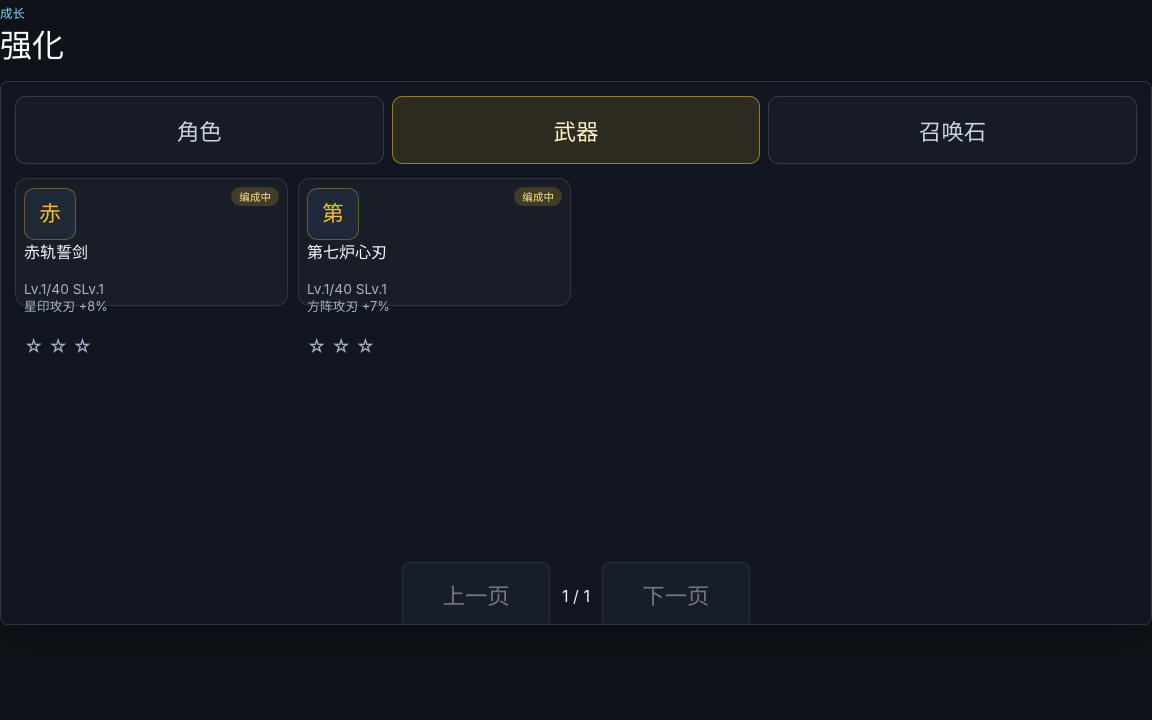
Scenario: upgrade screen › shows equipped badge and blocks dismantling equipped weapons
The image size is (1152, 720).
Expected: the 1st text "编成中" is shown, [231,187,279,206]
Click the button with test id "weapon-card-weapon-red-rail-saber" at (255, 197), box [15,178,288,306]
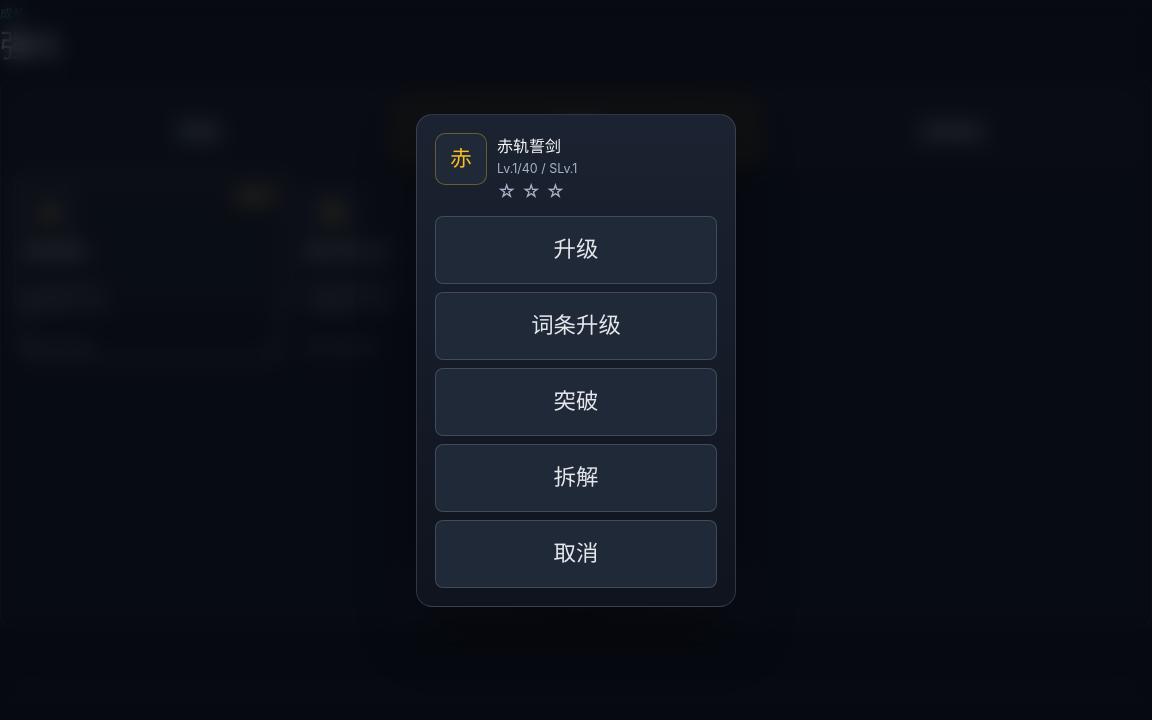
Click the button with test id "action-拆解" at (576, 478), box [435,444,717,512]
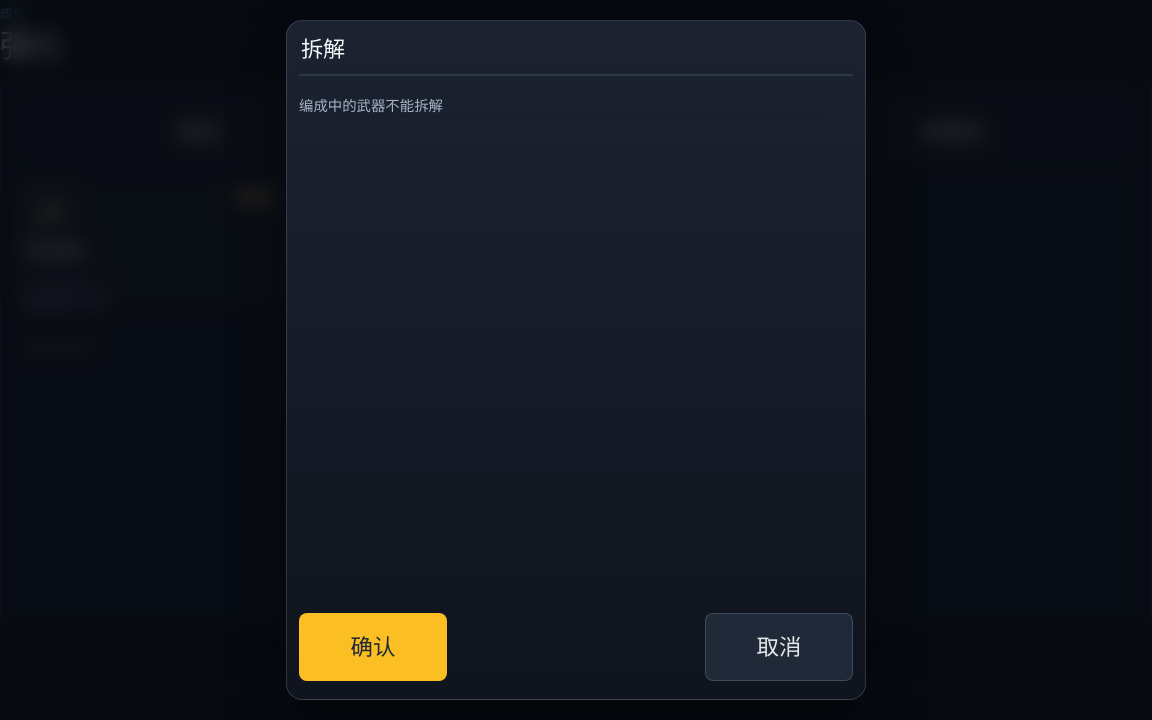
Expected: the text "编成中的武器不能拆解" is shown, [299,97,443,114]
